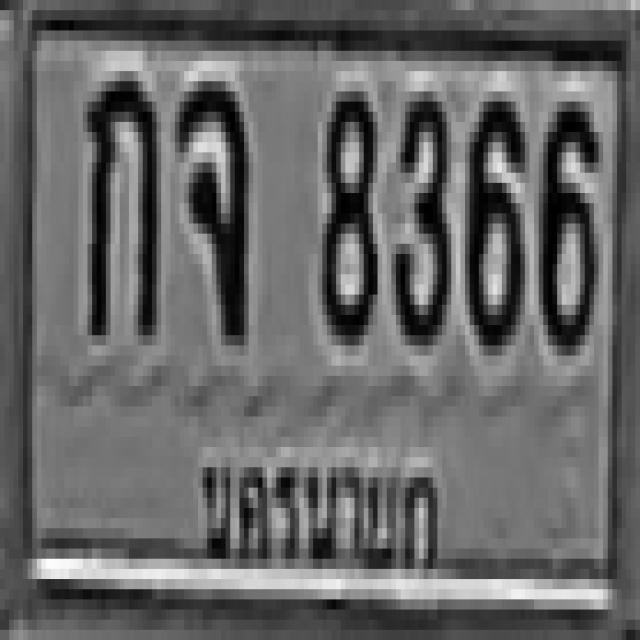NakhonNayok: (200, 418, 459, 612)
